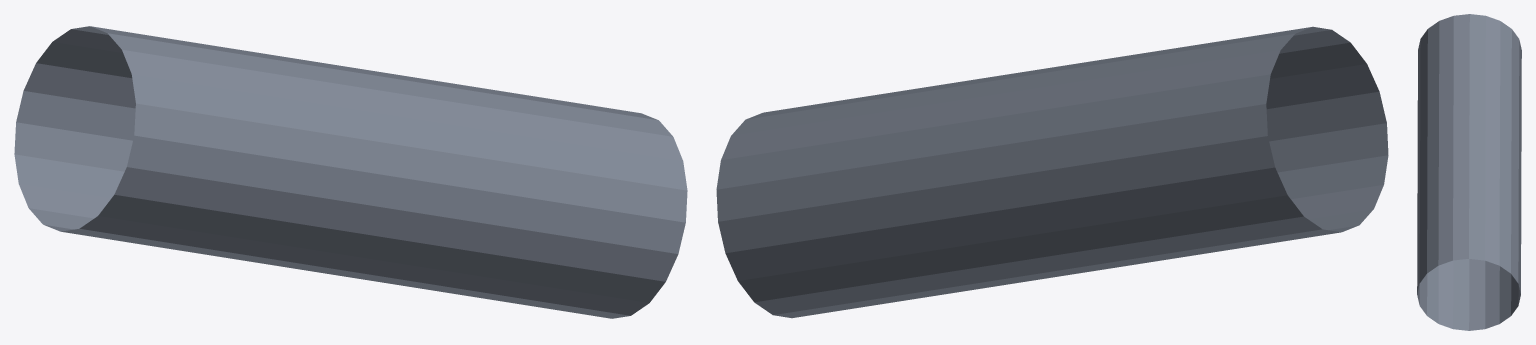
File: weight_6_0.obj
3 views of the same model, side by side, from view 1: azimuth 30°, elevation 25°; view 2: azimuth 150°, elevation 25°; view 3: azimuth 270°, elevation 25° (orthographic). The views are drawn at different scales.
Size of the model in its own units: 0.5097 by 0.3141 by 0.1503.
